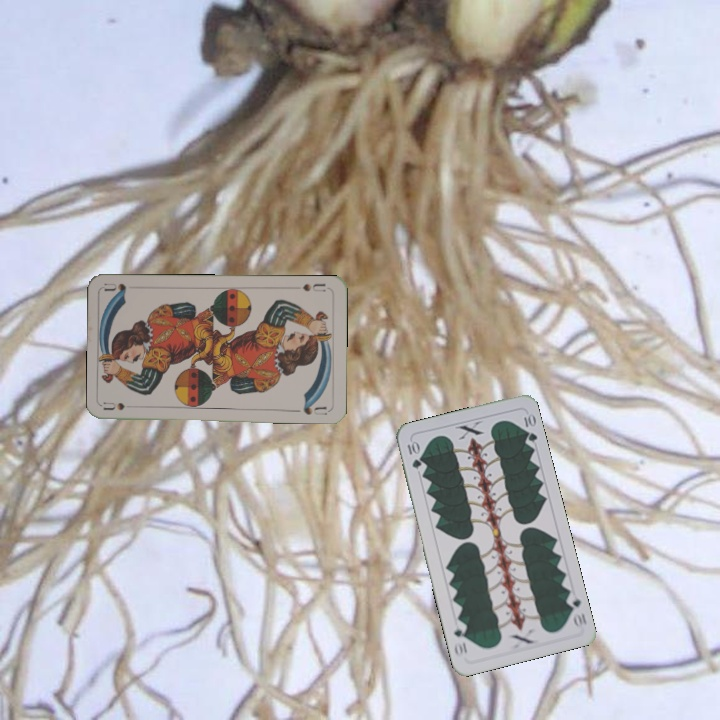G10: (562, 590, 589, 630), (403, 437, 424, 472)
SU: (101, 398, 142, 412), (299, 279, 328, 294)
